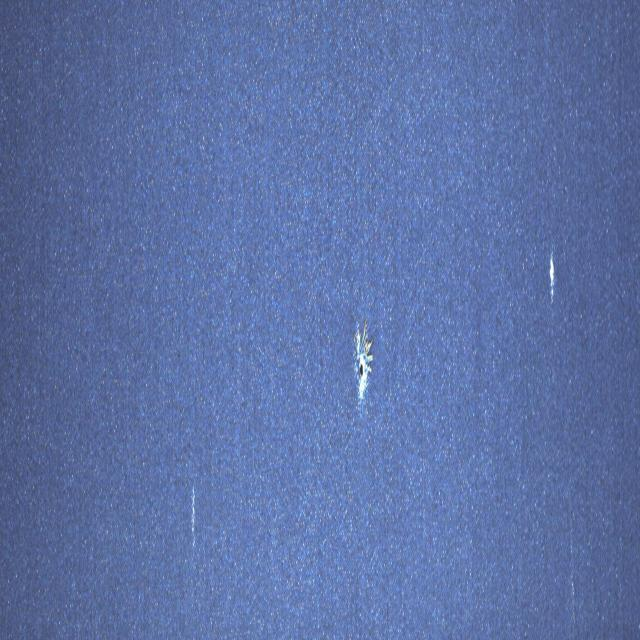pulled_or_thick_thread: (348, 323, 376, 409), (547, 248, 557, 312), (191, 485, 196, 551)
